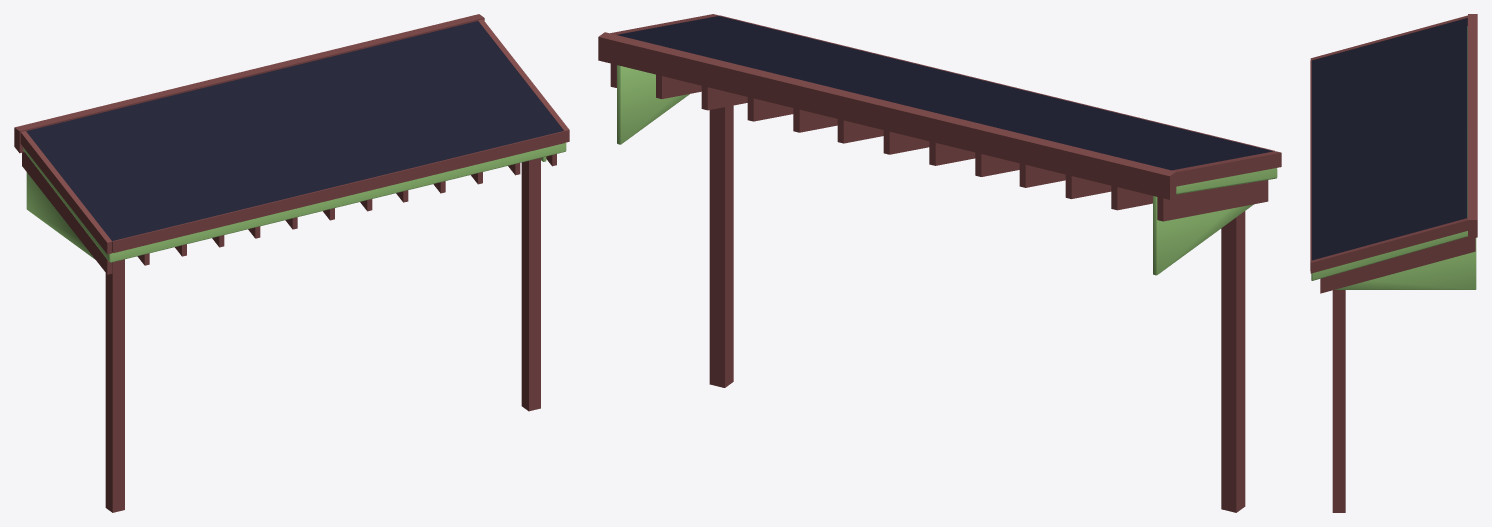
The model's file is SM_storefront_traditional_01.fbx.
3 views of the same model, side by side, from view 1: azimuth 30°, elevation 25°; view 2: azimuth 150°, elevation 25°; view 3: azimuth 270°, elevation 25° (orthographic). The views are drawn at different scales.
Visible parts, largest first — view 1: Object1284793; view 2: Object1284793; view 3: Object1284793.
Boxes of the visible parts, x1,y1,x2,y2 form: Object1284793: [14, 14, 569, 512]; Object1284793: [598, 14, 1281, 512]; Object1284793: [1310, 14, 1477, 512].
Bounding box in the file's own units: 208 × 142 × 71.59.
